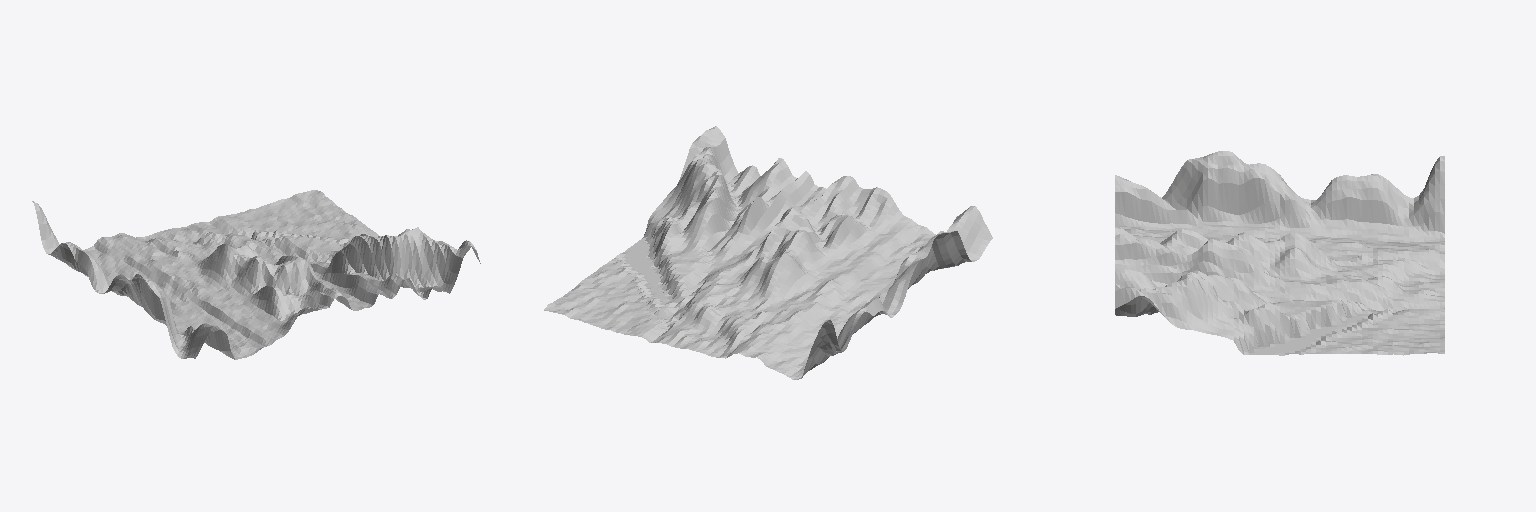
File: malyZlozity.obj
The picture shows the model from 3 angles: view 1: azimuth 30°, elevation 25°; view 2: azimuth 150°, elevation 25°; view 3: azimuth 270°, elevation 25°; orthographic projection.
Parts seen in each view (by area): view 1: Plane; view 2: Plane; view 3: Plane.
Boxes of the visible parts, x1=… form: Plane: x1=32, y1=190, x2=480, y2=359; Plane: x1=544, y1=126, x2=992, y2=379; Plane: x1=1115, y1=151, x2=1444, y2=355.
Bounding box in the file's own units: 2 × 0.4985 × 2.